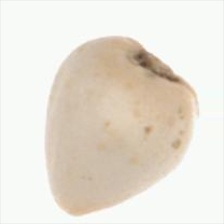L4: (44, 36, 199, 216)
